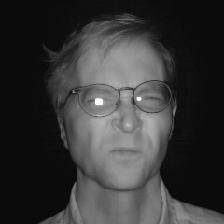sad: (46, 17, 189, 197)
